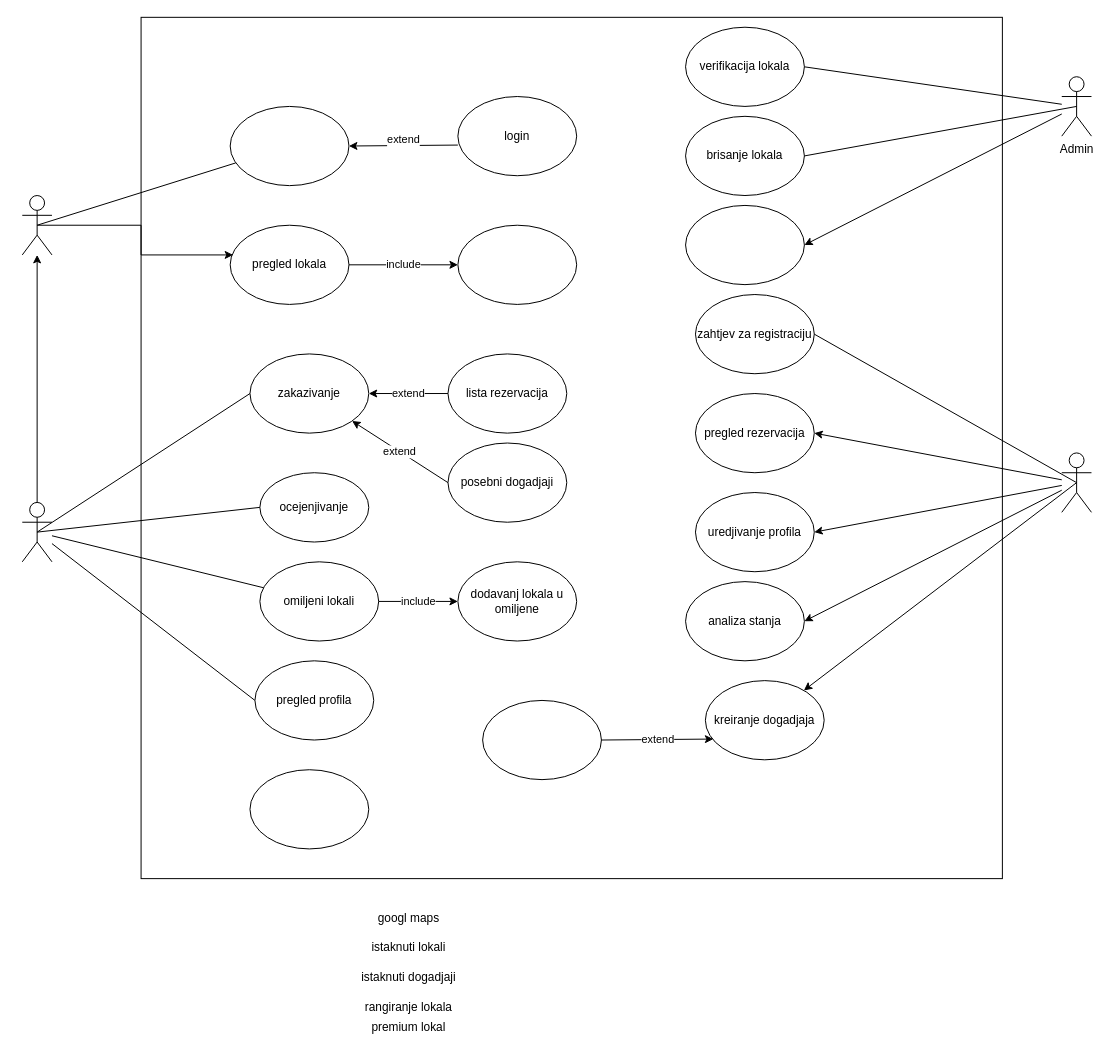
This 1111x1054 diagram has some shape labels left out. The shapes that lost their labels are listed below. From the top down, each one's centre as x and y in pixels, then its label:
At (289,145): "regitracija".
At (36,225): "gost".
At (744,244): "brisanje komentara".
At (517,264): "o lokalu".
At (1076,482): "Lokal".
At (36,531): "korisnik".
At (541,739): "izuzetak u rasporedu rezervacija".
At (309,809): "kupi kartu".
